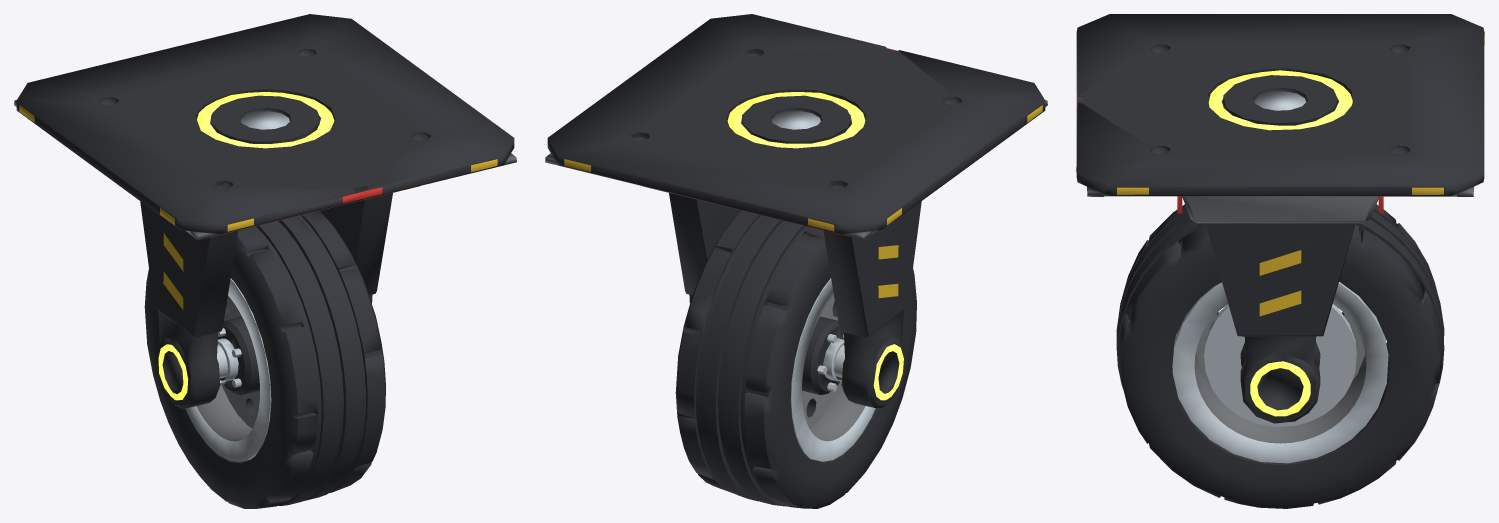
The model's file is R4M_WheelS_Fork_Road_LOD1.fbx.
3 renders of one model, left to right at view 1: azimuth 30°, elevation 25°; view 2: azimuth 150°, elevation 25°; view 3: azimuth 270°, elevation 25°, orthographic. The views are drawn at different scales.
Visible parts, largest first — view 1: R4M_WheelS_Fork_Road_Mount_LOD1, R4M_WheelS_Fork_Road_Rotor_LOD1; view 2: R4M_WheelS_Fork_Road_Mount_LOD1, R4M_WheelS_Fork_Road_Rotor_LOD1; view 3: R4M_WheelS_Fork_Road_Mount_LOD1, R4M_WheelS_Fork_Road_Rotor_LOD1.
Boxes of the visible parts, box(x1,y1,x2,y2) form: R4M_WheelS_Fork_Road_Mount_LOD1: box(14, 14, 516, 408); R4M_WheelS_Fork_Road_Rotor_LOD1: box(144, 211, 385, 508); R4M_WheelS_Fork_Road_Mount_LOD1: box(545, 14, 1047, 407); R4M_WheelS_Fork_Road_Rotor_LOD1: box(675, 211, 916, 508); R4M_WheelS_Fork_Road_Mount_LOD1: box(1076, 14, 1484, 423); R4M_WheelS_Fork_Road_Rotor_LOD1: box(1116, 204, 1444, 508).
Size of the model in its own units: 0.5108 by 0.5401 by 0.5108.
